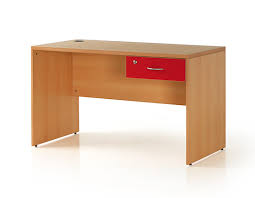desk: (20, 26, 232, 169)
